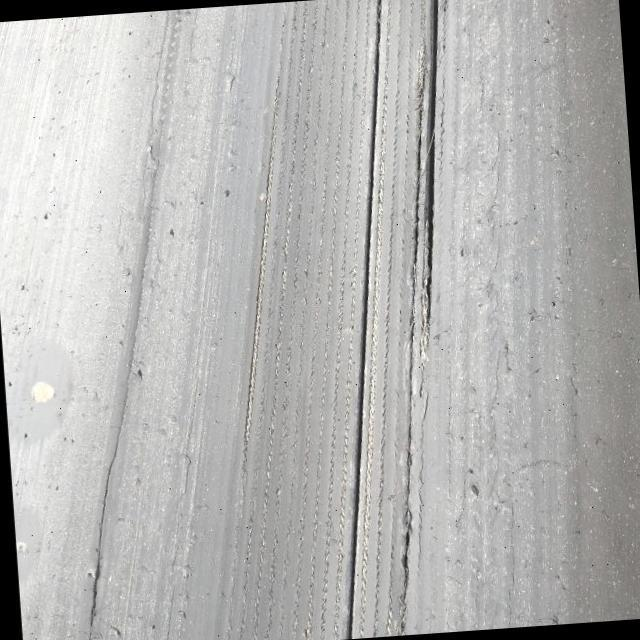Tear: (341, 0, 387, 637), (399, 65, 430, 634), (83, 403, 137, 630), (422, 0, 444, 335)
Wear: (220, 0, 378, 640)
